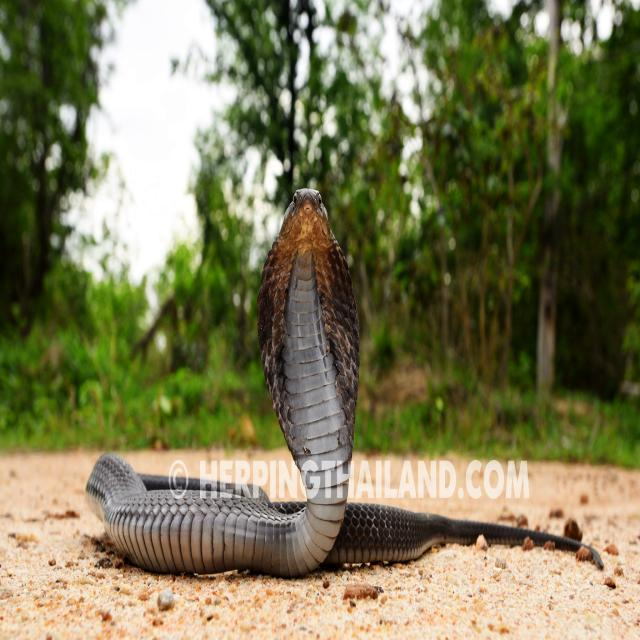Naja siamensis: (86, 189, 581, 576)
